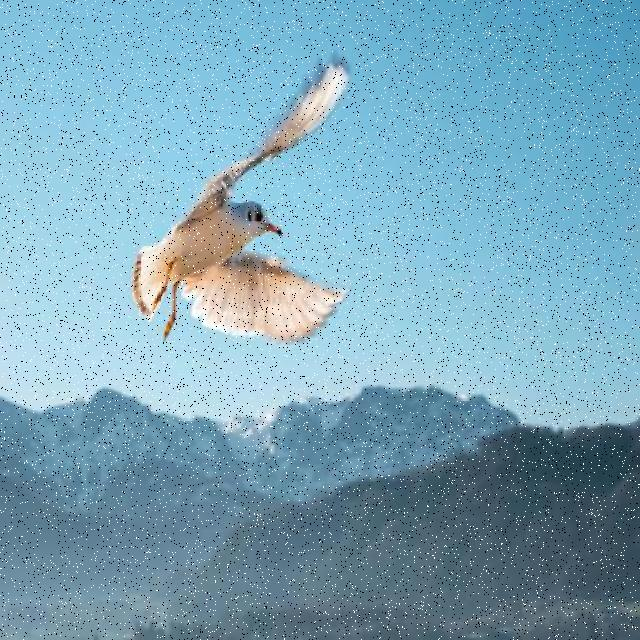bird: (134, 57, 351, 346)
